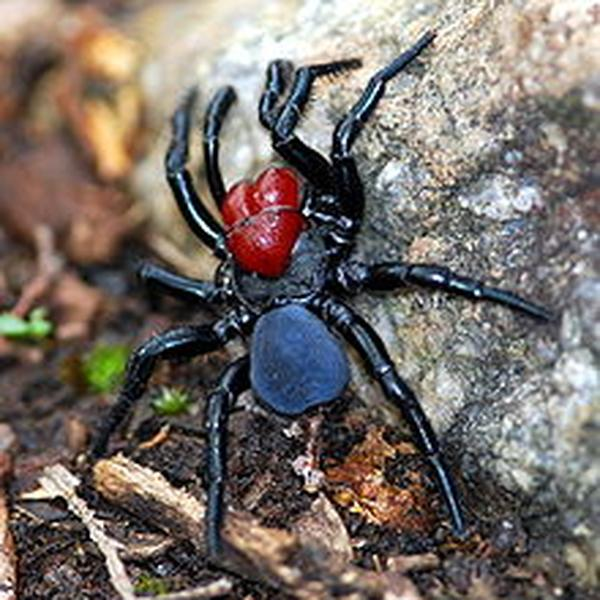Red Headed Mouse Spider: (100, 33, 555, 555)
